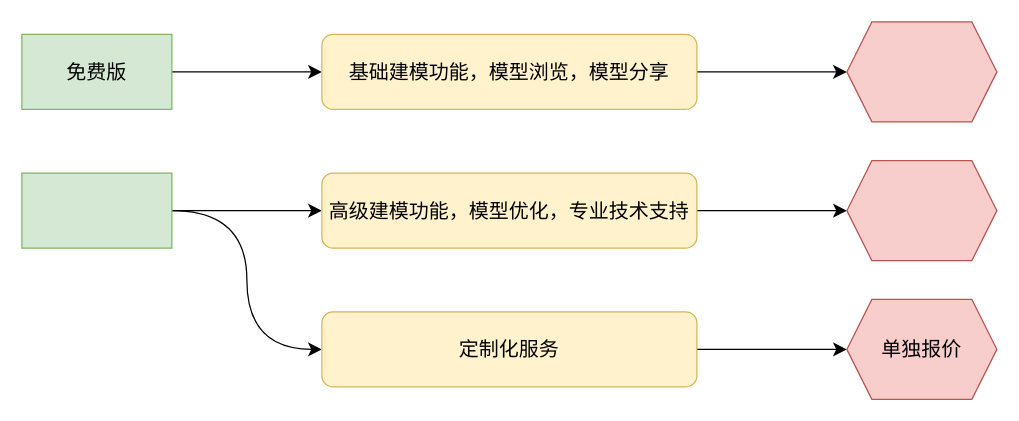
Some shapes in this 1019 by 421 pixel diagram are drawn without their labels. The centre of each missing label's shape, as x and y in pixels:
0￥/月: (921,71)
30,00￥/月: (921,210)
订阅版: (96,210)
